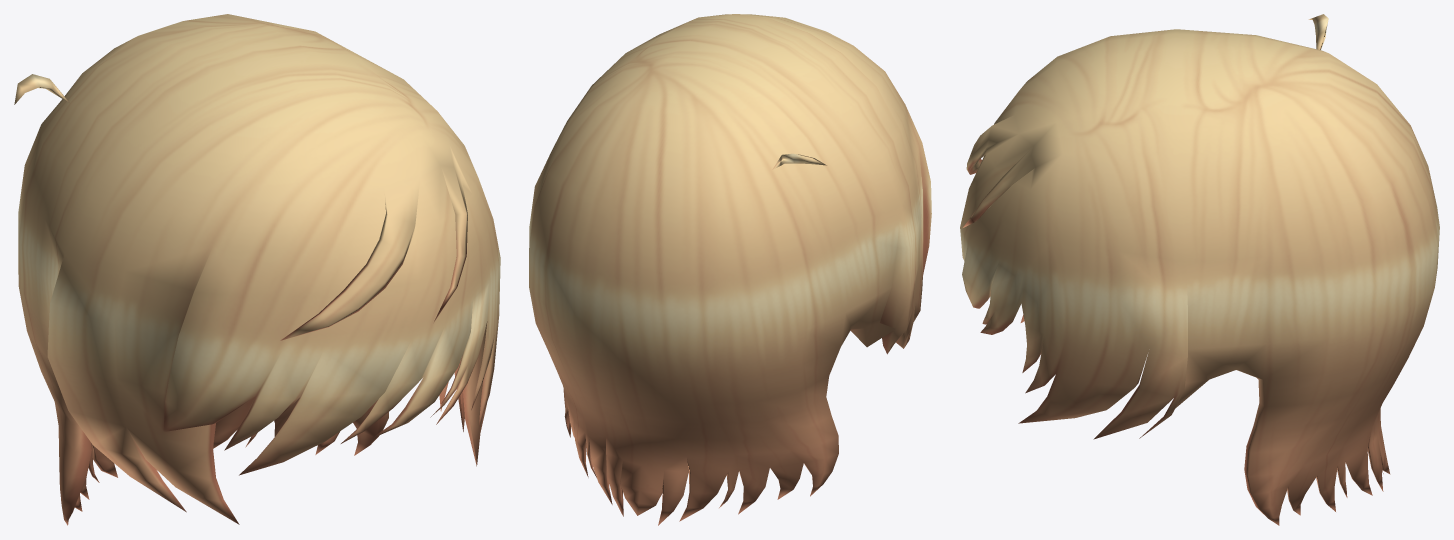
The model's file is Photo_FredHair.fbx.
3 views of the same model, side by side, from view 1: azimuth 30°, elevation 25°; view 2: azimuth 150°, elevation 25°; view 3: azimuth 270°, elevation 25° (orthographic). The views are drawn at different scales.
Visible parts, largest first — view 1: Photo_FredHair; view 2: Photo_FredHair; view 3: Photo_FredHair.
Part boxes in pixels (bbox=[...]): Photo_FredHair: bbox=[14, 14, 500, 525]; Photo_FredHair: bbox=[529, 14, 931, 525]; Photo_FredHair: bbox=[960, 14, 1439, 525].
Size of the model in its own units: 21.6 by 24.24 by 24.26.
